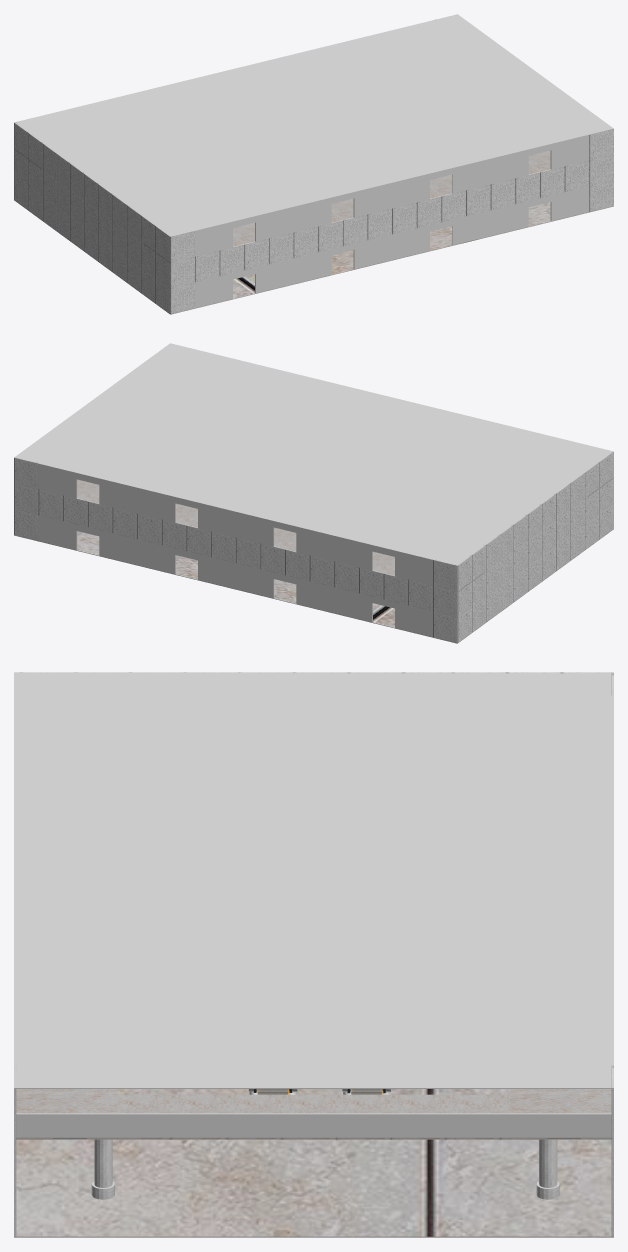
File: building start.fbx
3 renders of one model, top to bottom at view 1: azimuth 30°, elevation 25°; view 2: azimuth 150°, elevation 25°; view 3: azimuth 270°, elevation 25°, orthographic. The views are drawn at different scales.
Visible parts, largest first — view 1: Cube.066, Cube.103, Cube.036, Cube.012, Cube.115, Cube.084, Cube.078, Cube.005, Cube.087, Cube.081, Cube.107, Cube.002 (+17 smaller); view 2: Cube.066, Cube.058, Cube.036, Cube.012, Cube.115, Cube.051, Cube.054, Cube.045, Cube.048, Cube.013, Cube.019, Cube.016 (+17 smaller); view 3: Cube.066, Cube.012, Cube.115, Cube.097, Cube.098, Cube.092, Cube.093, Cube.094, Cube.095, Cube.096, Cube.099, Cube.100 (+5 smaller).
Boxes of the visible parts, bbox=[...] form: Cube.066: bbox=[16, 14, 613, 236]; Cube.103: bbox=[169, 129, 613, 314]; Cube.036: bbox=[14, 122, 170, 313]; Cube.012: bbox=[14, 200, 613, 314]; Cube.115: bbox=[14, 149, 550, 262]; Cube.084: bbox=[318, 189, 367, 226]; Cube.078: bbox=[515, 141, 564, 178]; Cube.005: bbox=[318, 240, 367, 277]; Cube.087: bbox=[219, 213, 268, 250]; Cube.081: bbox=[416, 165, 465, 202]; Cube.107: bbox=[515, 192, 564, 229]; Cube.002: bbox=[416, 216, 465, 253]; Cube.066: bbox=[15, 343, 613, 566]; Cube.058: bbox=[14, 457, 458, 643]; Cube.036: bbox=[457, 452, 613, 642]; Cube.012: bbox=[14, 529, 613, 643]; Cube.115: bbox=[77, 478, 613, 591]; Cube.051: bbox=[260, 517, 309, 555]; Cube.054: bbox=[359, 541, 408, 579]; Cube.045: bbox=[63, 469, 112, 507]; Cube.048: bbox=[162, 493, 211, 531]; Cube.013: bbox=[63, 521, 112, 558]; Cube.019: bbox=[260, 569, 309, 606]; Cube.016: bbox=[162, 545, 211, 582]; Cube.066: bbox=[14, 672, 613, 1088]; Cube.012: bbox=[14, 1089, 613, 1237]; Cube.115: bbox=[16, 1089, 611, 1139]; Cube.097: bbox=[234, 1113, 289, 1137]; Cube.098: bbox=[398, 1113, 453, 1137]; Cube.092: bbox=[71, 1113, 125, 1137]; Cube.093: bbox=[16, 1113, 70, 1137]; Cube.094: bbox=[180, 1113, 234, 1137]; Cube.095: bbox=[125, 1113, 179, 1137]; Cube.096: bbox=[289, 1113, 343, 1137]; Cube.099: bbox=[344, 1113, 398, 1137]; Cube.100: bbox=[508, 1113, 562, 1137].
Size of what is drawn, in the model's own units: 3601 by 604 by 2197.
